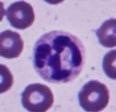N: (33, 30, 86, 83)
